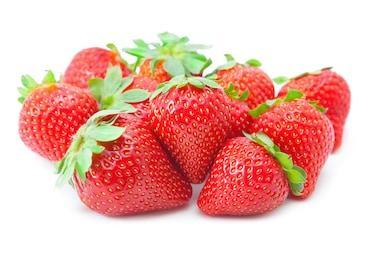Fresa: (68, 108, 194, 221), (194, 131, 299, 222), (147, 72, 230, 187), (249, 95, 334, 203), (17, 77, 105, 166), (276, 65, 353, 155)
